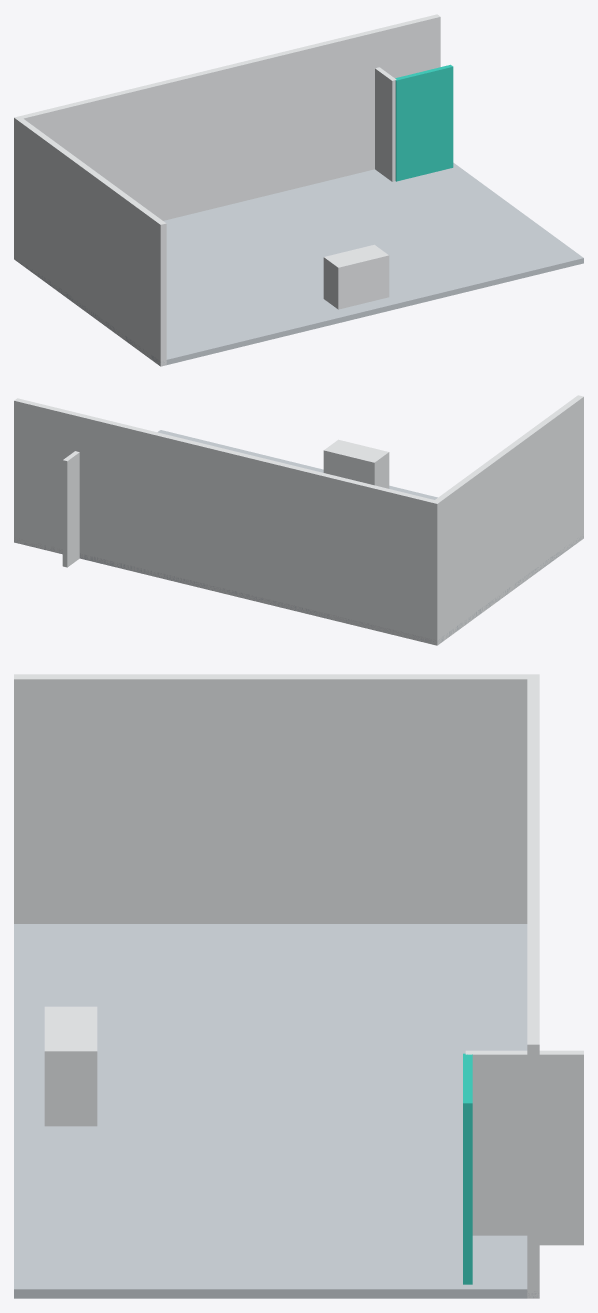
3 views of the same model, one above another, from view 1: azimuth 30°, elevation 25°; view 2: azimuth 150°, elevation 25°; view 3: azimuth 270°, elevation 25° (orthographic). The views are drawn at different scales.
Visible parts, largest first — view 1: Exhibition Booth Concept; view 2: Exhibition Booth Concept; view 3: Exhibition Booth Concept.
Part boxes in pixels (x1,y1,x2,y2): Exhibition Booth Concept: [14, 14, 583, 366]; Exhibition Booth Concept: [14, 395, 583, 645]; Exhibition Booth Concept: [14, 674, 583, 1298].
Size of the model in its own units: 10 by 3.2 by 6.51.
